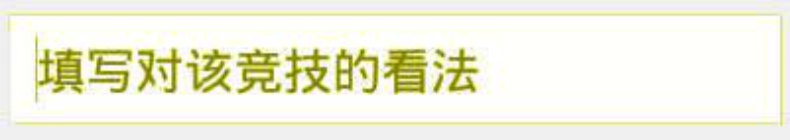EditText: (1, 1, 789, 139)
